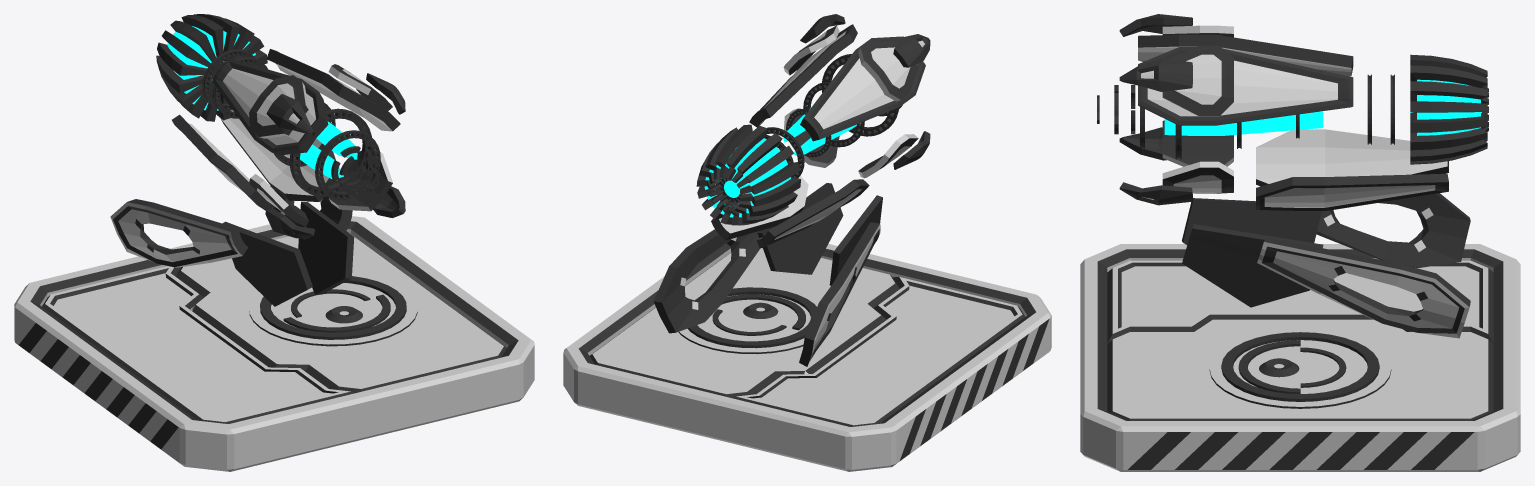
Rendered from Ultimate_Gun_FBX.fbx.
The picture shows the model from 3 angles, left to right: view 1: azimuth 30°, elevation 25°; view 2: azimuth 150°, elevation 25°; view 3: azimuth 270°, elevation 25°; orthographic projection. The views are drawn at different scales.
Visible parts, largest first — view 1: Plane, Plane.001, Plane.002, Circle.009, Cylinder, Cylinder.004, Sphere, Cylinder.001, Cylinder.006, Cylinder.007, Cylinder.005, Cylinder.002 (+5 smaller); view 2: Plane, Plane.001, Plane.002, Cylinder.004, Sphere, Cylinder, Circle.009, Cylinder.001, Cylinder.006, Cylinder.005, Cylinder.002, Cylinder.007 (+3 smaller); view 3: Plane, Plane.002, Cylinder.004, Plane.001, Cylinder.006, Cylinder, Circle.009, Cylinder.001, Sphere, Cylinder.005, Cylinder.002, Cylinder.007 (+1 smaller).
Part boxes in pixels (bbox=[...]): Plane: bbox=[14, 216, 534, 471]; Plane.001: bbox=[42, 266, 354, 423]; Plane.002: bbox=[176, 231, 506, 392]; Circle.009: bbox=[249, 274, 417, 346]; Cylinder: bbox=[212, 49, 400, 155]; Cylinder.004: bbox=[110, 186, 352, 267]; Sphere: bbox=[156, 14, 267, 121]; Cylinder.001: bbox=[249, 64, 392, 227]; Cylinder.006: bbox=[172, 110, 336, 211]; Cylinder.007: bbox=[222, 221, 312, 306]; Cylinder.005: bbox=[298, 202, 354, 294]; Cylinder.002: bbox=[266, 73, 405, 239]; Plane: bbox=[563, 243, 1051, 471]; Plane.001: bbox=[732, 277, 1025, 426]; Plane.002: bbox=[589, 248, 899, 397]; Cylinder.004: bbox=[653, 222, 880, 366]; Sphere: bbox=[696, 124, 800, 225]; Cylinder: bbox=[749, 24, 925, 141]; Circle.009: bbox=[678, 285, 819, 354]; Cylinder.001: bbox=[783, 25, 918, 178]; Cylinder.006: bbox=[711, 176, 869, 248]; Cylinder.005: bbox=[757, 183, 843, 274]; Cylinder.002: bbox=[800, 14, 930, 169]; Cylinder.007: bbox=[829, 195, 882, 285]; Plane: bbox=[1080, 244, 1520, 471]; Plane.002: bbox=[1107, 319, 1493, 420]; Cylinder.004: bbox=[1257, 193, 1470, 338]; Plane.001: bbox=[1107, 260, 1493, 343]; Cylinder.006: bbox=[1256, 129, 1448, 210]; Cylinder: bbox=[1138, 34, 1353, 125]; Circle.009: bbox=[1209, 330, 1391, 408]; Cylinder.001: bbox=[1162, 25, 1233, 193]; Sphere: bbox=[1410, 54, 1488, 164]; Cylinder.005: bbox=[1182, 224, 1323, 307]; Cylinder.002: bbox=[1119, 14, 1192, 205]; Cylinder.007: bbox=[1182, 198, 1321, 244].
Bounding box in the file's own units: 200 × 173 × 200.
